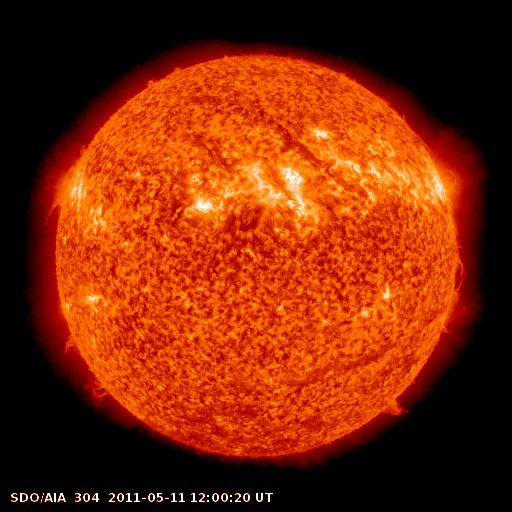prominence: (32, 138, 93, 230), (439, 255, 482, 344), (370, 387, 420, 427), (75, 370, 120, 413), (57, 328, 84, 361)
